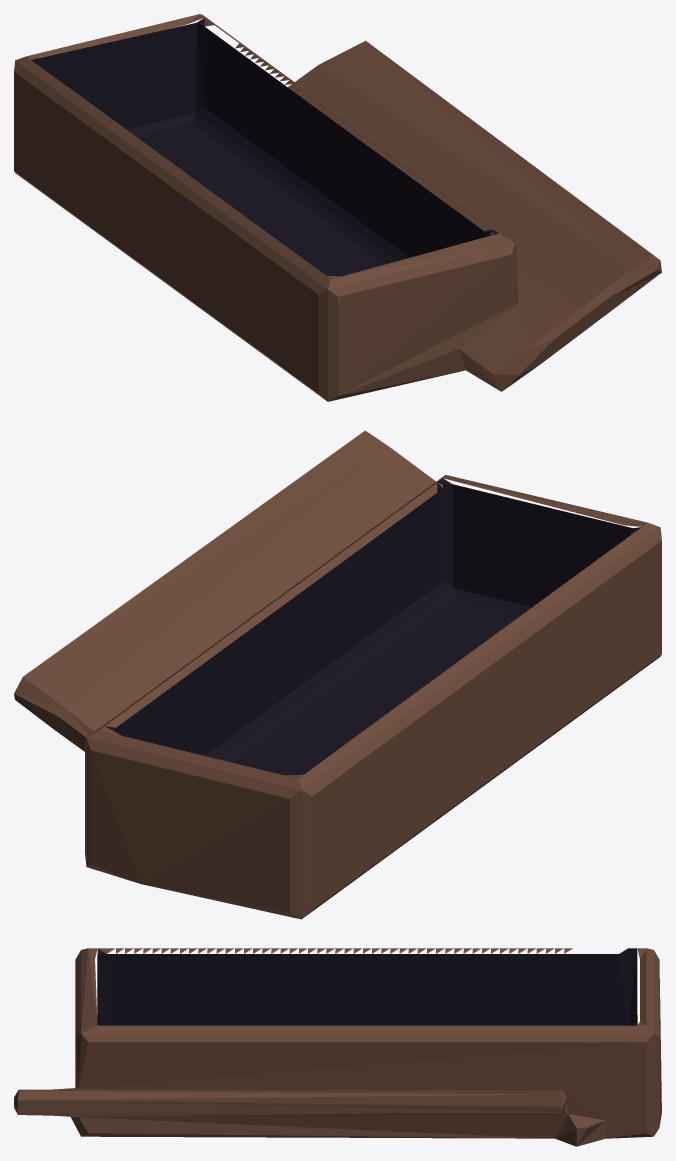
Rendered from coffin_broken.glb.
3 renders of one model, top to bottom at view 1: azimuth 30°, elevation 25°; view 2: azimuth 150°, elevation 25°; view 3: azimuth 270°, elevation 25°, orthographic. The views are drawn at different scales.
Parts seen in each view (by area): view 1: coffin_broken; view 2: coffin_broken; view 3: coffin_broken.
Boxes of the visible parts, left/top/right/bottom form: coffin_broken: left=14, top=14, right=661, bottom=401; coffin_broken: left=14, top=430, right=661, bottom=919; coffin_broken: left=14, top=948, right=661, bottom=1146.
Size of the model in its own units: 1.05 by 0.3906 by 2.11.
